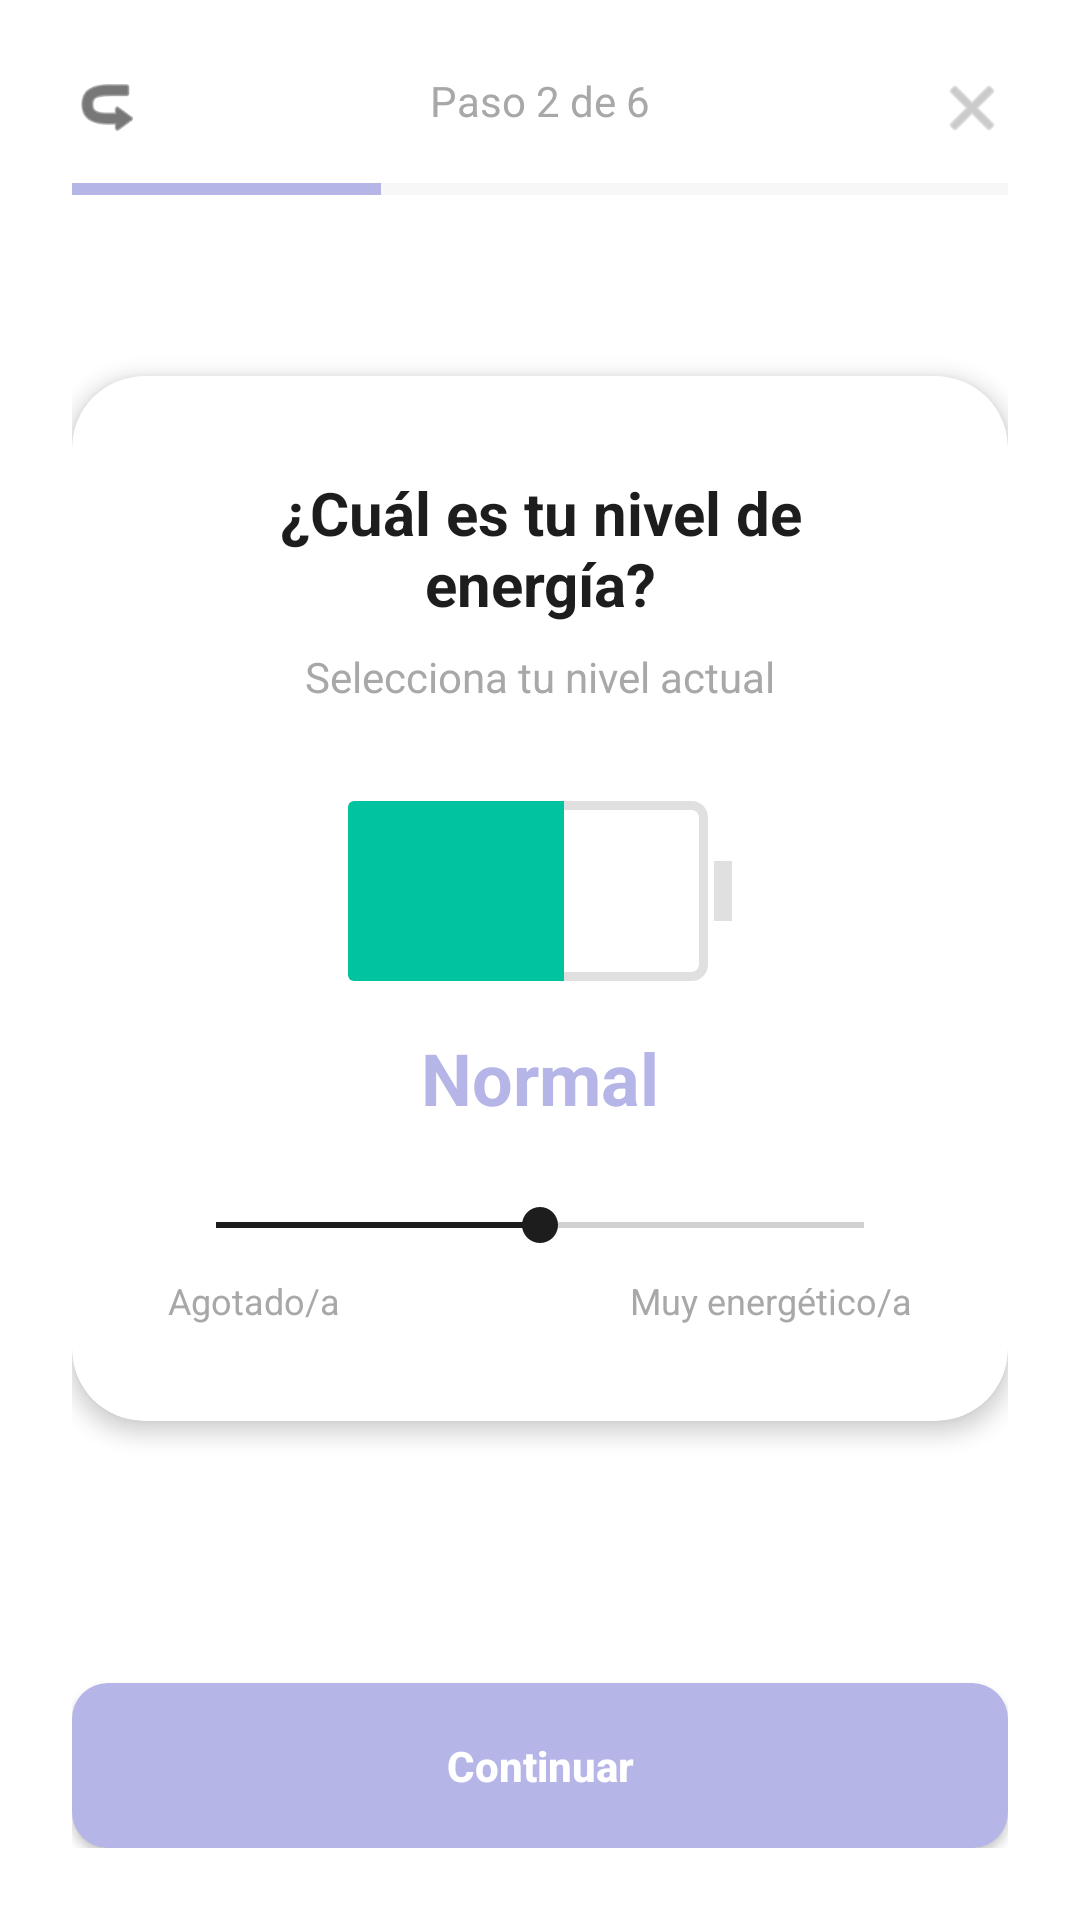

Where icons sit on this 1080*1920 app screen, as (x1, y1, x2, y2):
close clear cancel: (950, 86, 994, 130)
